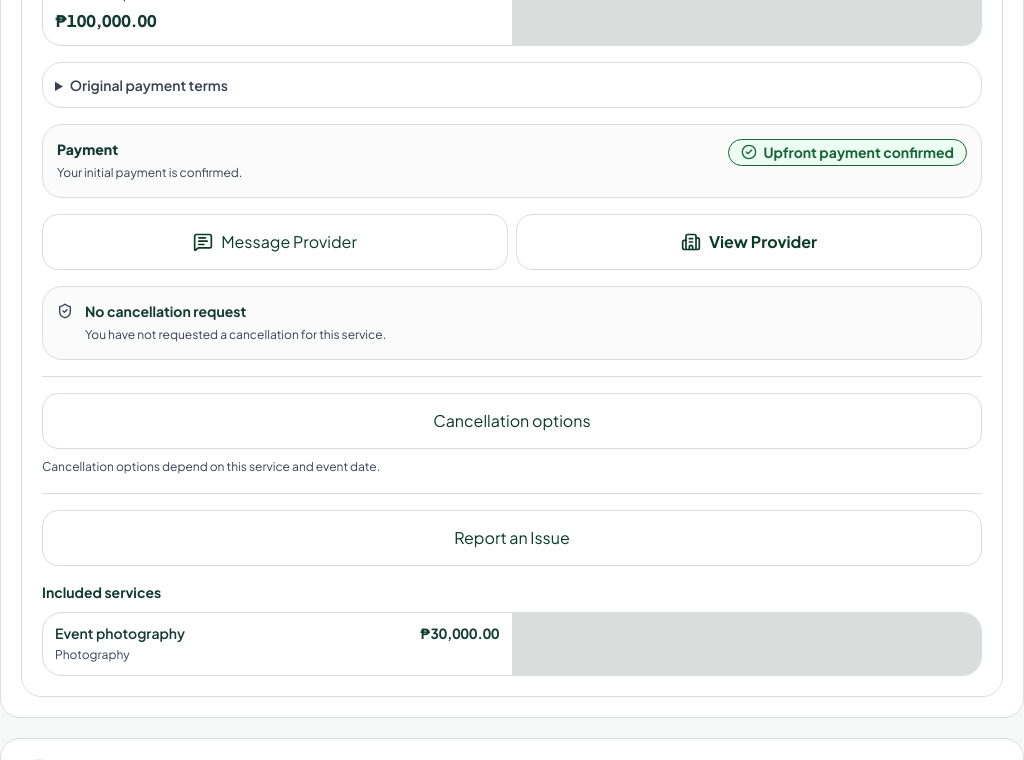
customer booking dedicated detail page › targets only the selected Provider request and leaves other Provider cards unchanged
The image size is (1024, 760).
(page scrolled)
Click the button with aria-label "Cancellation options for Photo Studio's service" at (512, 420), box [42,392,982,448]
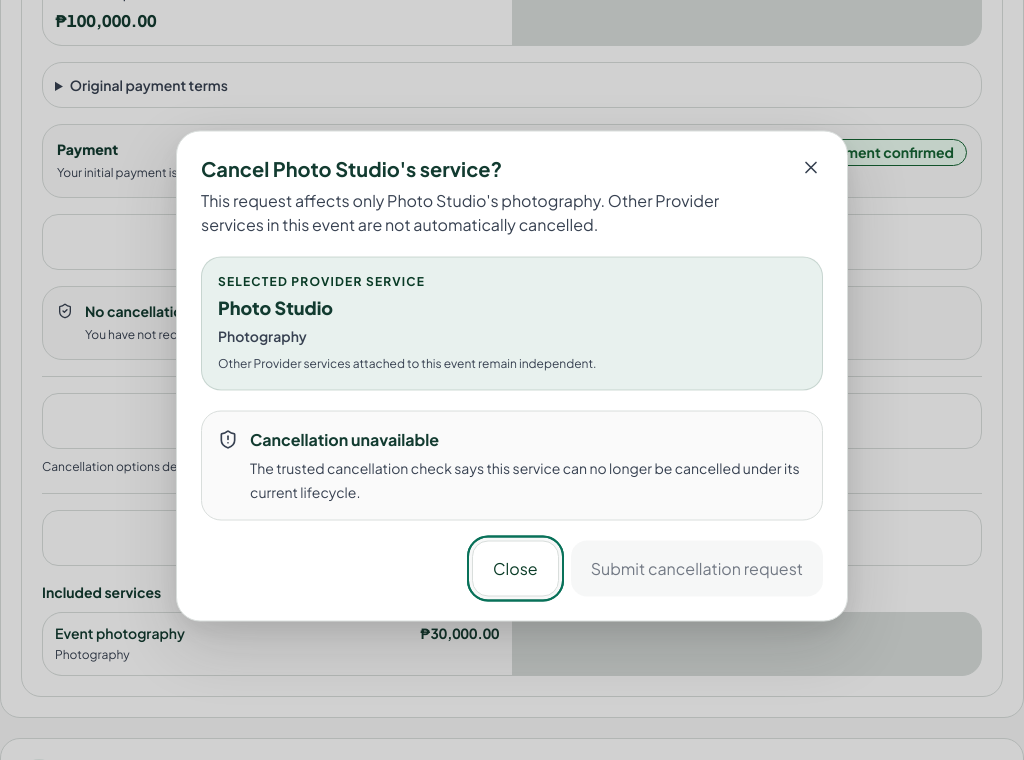
Result: the heading "Cancel Photo Studio's service?" is shown at [201,156,502,180]
Result: the text "Other Provider services attached to this event remain independent" is shown at [218,356,596,370]
Click the button "Close" at (515, 568), box [472,540,559,596]
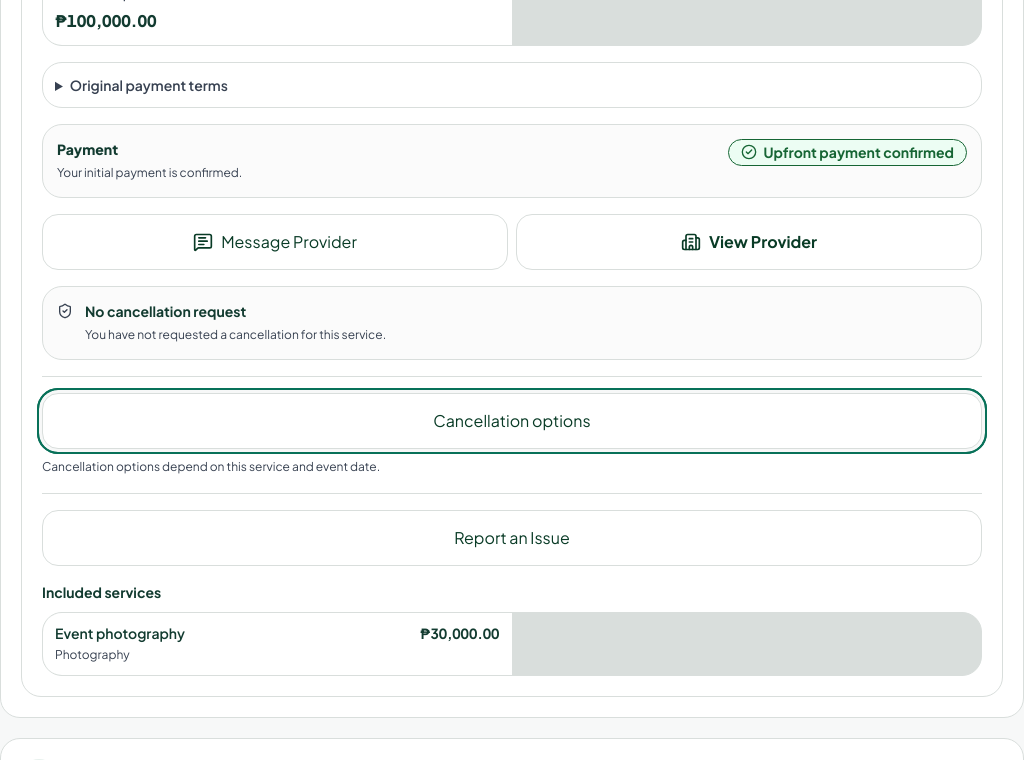
Result: the dialog is gone
